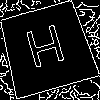H: (22, 24, 71, 79)
